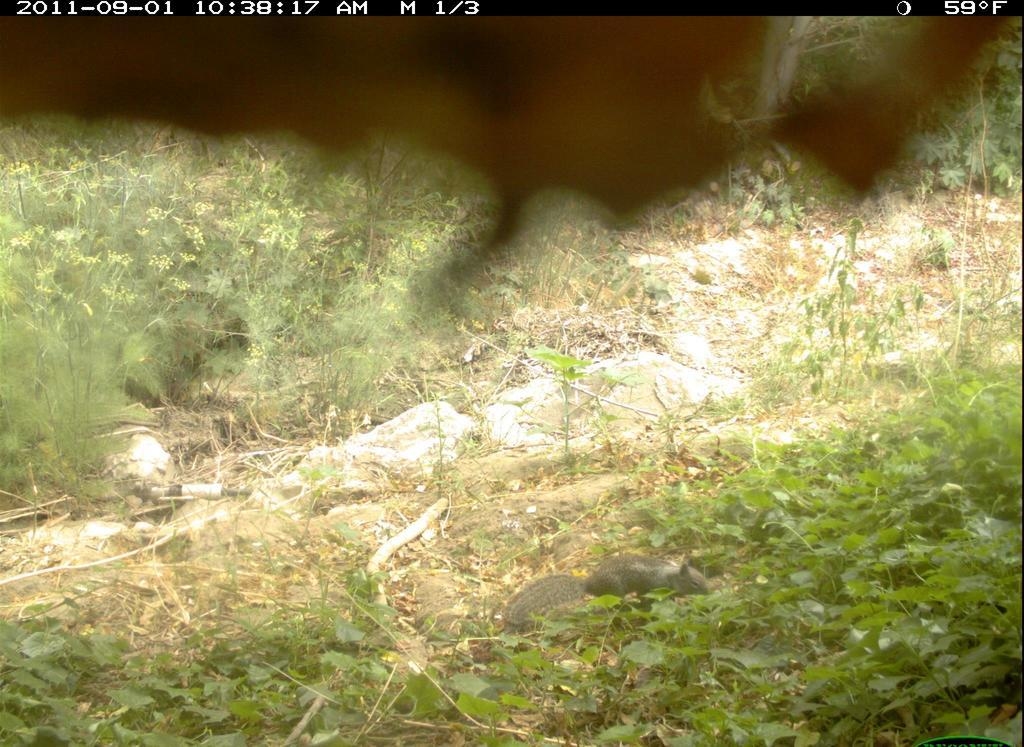squirrel: (486, 547, 725, 635)
